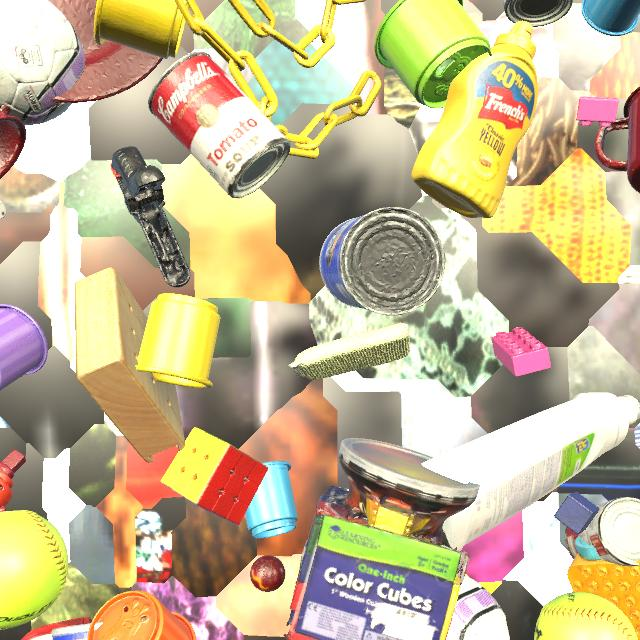ycb_002_master_chef_can: (319, 207, 445, 316), (51, 618, 146, 640)
ycb_005_tomato_soup_can: (148, 51, 291, 198), (565, 497, 640, 566), (503, 0, 573, 27)
ycb_006_mustard_bottle: (411, 21, 538, 218)
